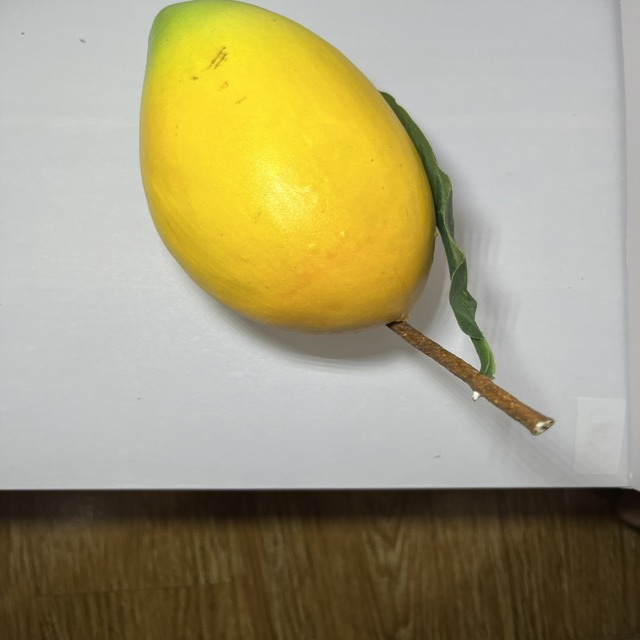Xoai: (132, 0, 443, 338)
